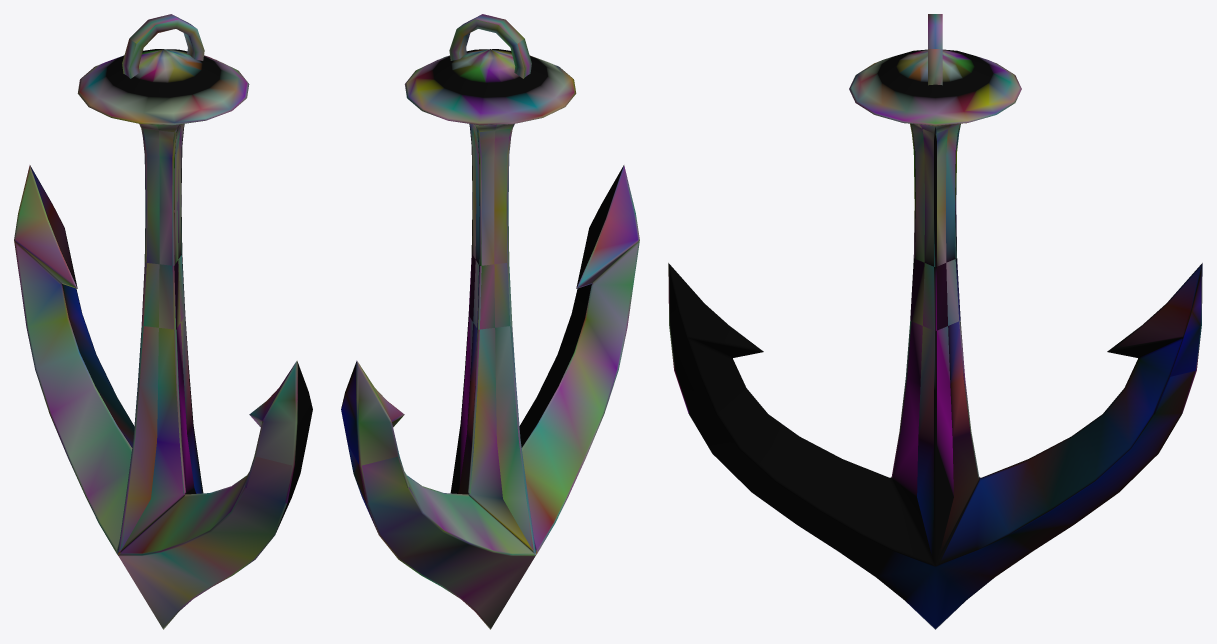
The model's file is UND_G_EE_Anchor.gltf.
3 views of the same model, side by side, from view 1: azimuth 30°, elevation 25°; view 2: azimuth 150°, elevation 25°; view 3: azimuth 270°, elevation 25° (orthographic).
Visible parts, largest first — view 1: UND_G_EE_Anchor; view 2: UND_G_EE_Anchor; view 3: UND_G_EE_Anchor.
Boxes of the visible parts, left/top/right/bottom form: UND_G_EE_Anchor: left=14, top=14, right=312, bottom=629; UND_G_EE_Anchor: left=341, top=14, right=639, bottom=629; UND_G_EE_Anchor: left=668, top=14, right=1202, bottom=629.
Bounding box in the file's own units: 0.8209 × 3.2 × 2.54.
